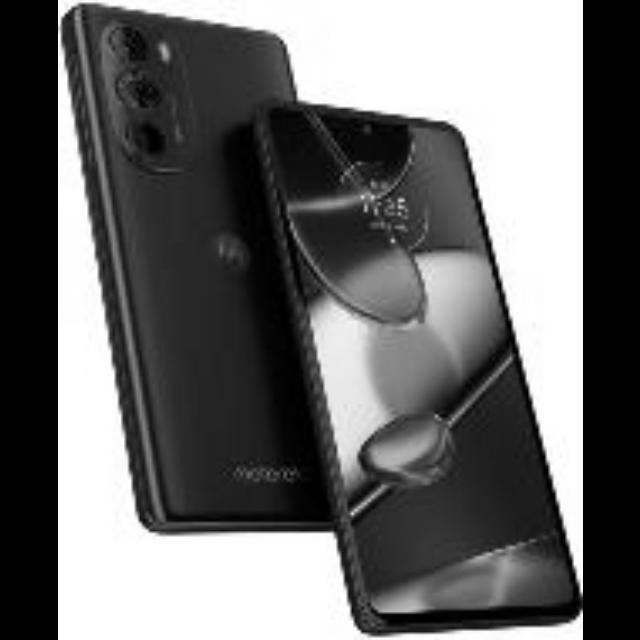fake: (247, 86, 583, 640)
